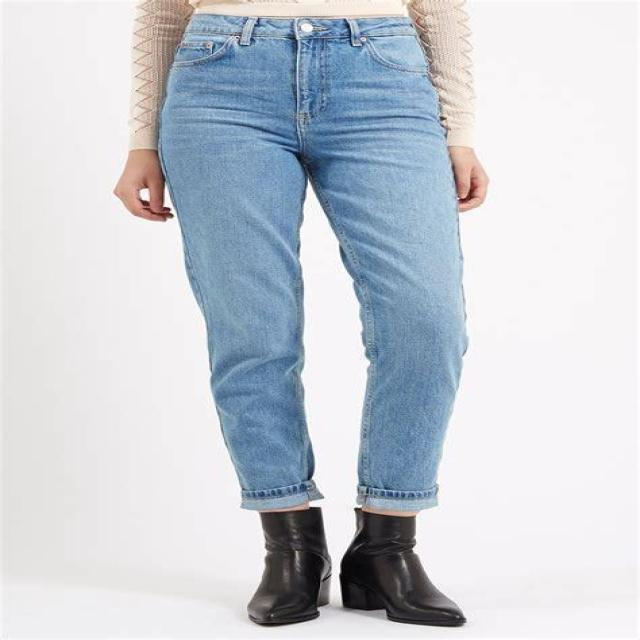pants: (158, 15, 466, 514)
